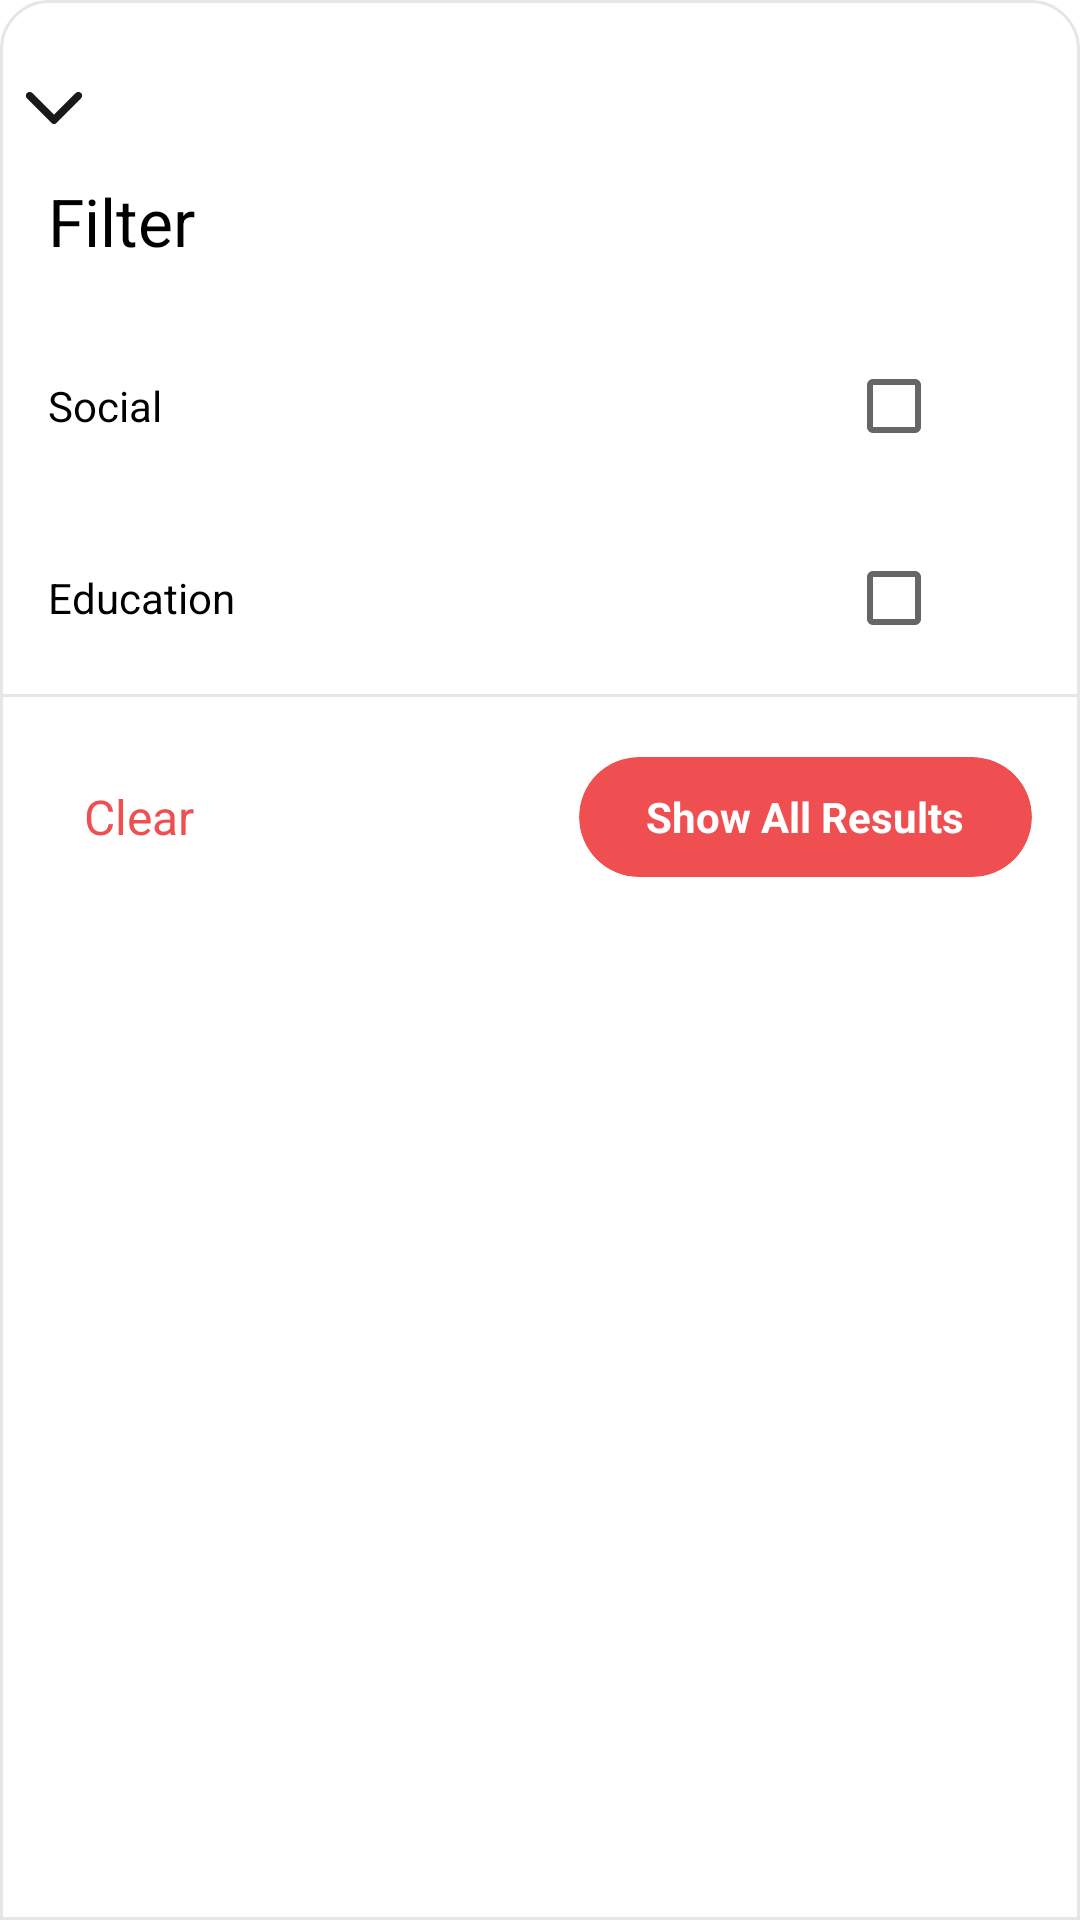

Named icons in this screenshot (1080px x 1920px) and their centers, (x=x, y=y):
down close: (x=54, y=108)
